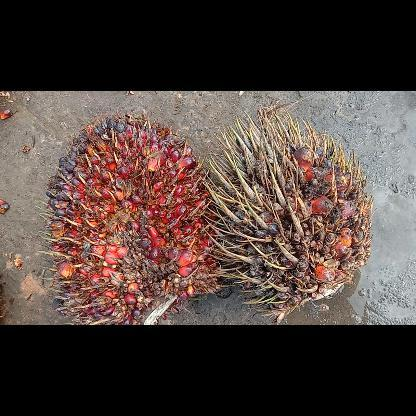TBS abnormal: (207, 104, 374, 324)
TBS masak: (42, 111, 219, 324)
